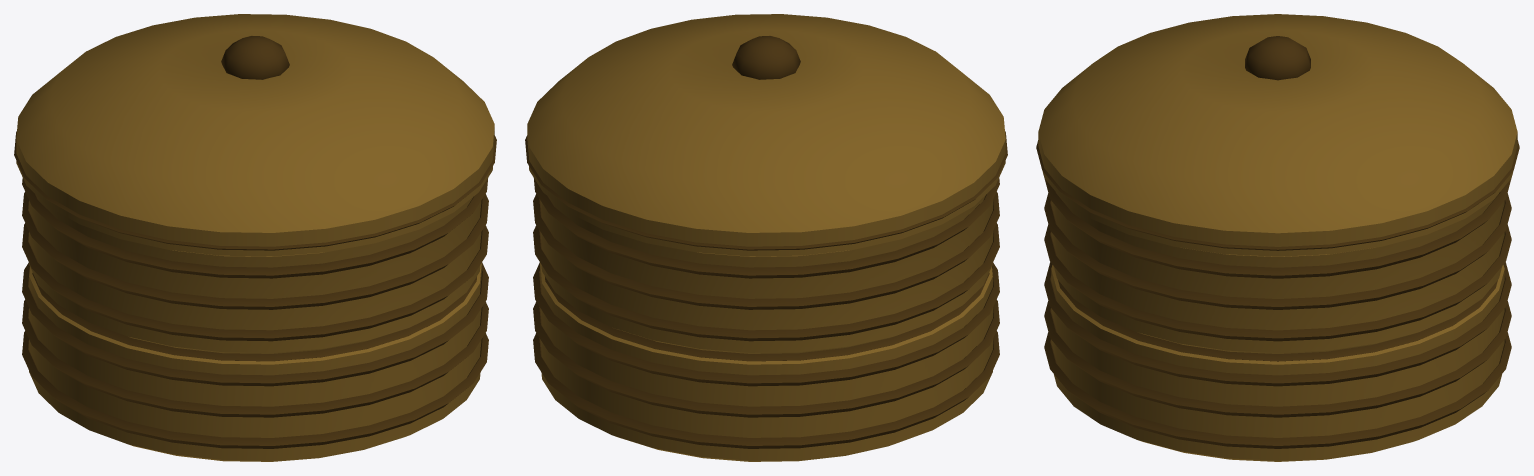
File: tea-steamer.glb
The picture shows the model from 3 angles, left to right: view 1: azimuth 30°, elevation 25°; view 2: azimuth 150°, elevation 25°; view 3: azimuth 270°, elevation 25°; orthographic projection.
Parts seen in each view (by area): view 1: lid__bamboo, tiers__bamboo, bands__bamboo; view 2: lid__bamboo, tiers__bamboo, bands__bamboo; view 3: lid__bamboo, tiers__bamboo, bands__bamboo.
Boxes of the visible parts, x1=… form: lid__bamboo: x1=14, y1=14, x2=496, y2=256; tiers__bamboo: x1=29, y1=195, x2=481, y2=461; bands__bamboo: x1=22, y1=178, x2=488, y2=448; lid__bamboo: x1=525, y1=14, x2=1007, y2=256; tiers__bamboo: x1=540, y1=195, x2=992, y2=461; bands__bamboo: x1=533, y1=178, x2=999, y2=448; lid__bamboo: x1=1036, y1=14, x2=1519, y2=256; tiers__bamboo: x1=1051, y1=194, x2=1504, y2=461; bands__bamboo: x1=1044, y1=179, x2=1511, y2=448.
Size of the model in its own units: 0.224 by 0.169 by 0.224.
